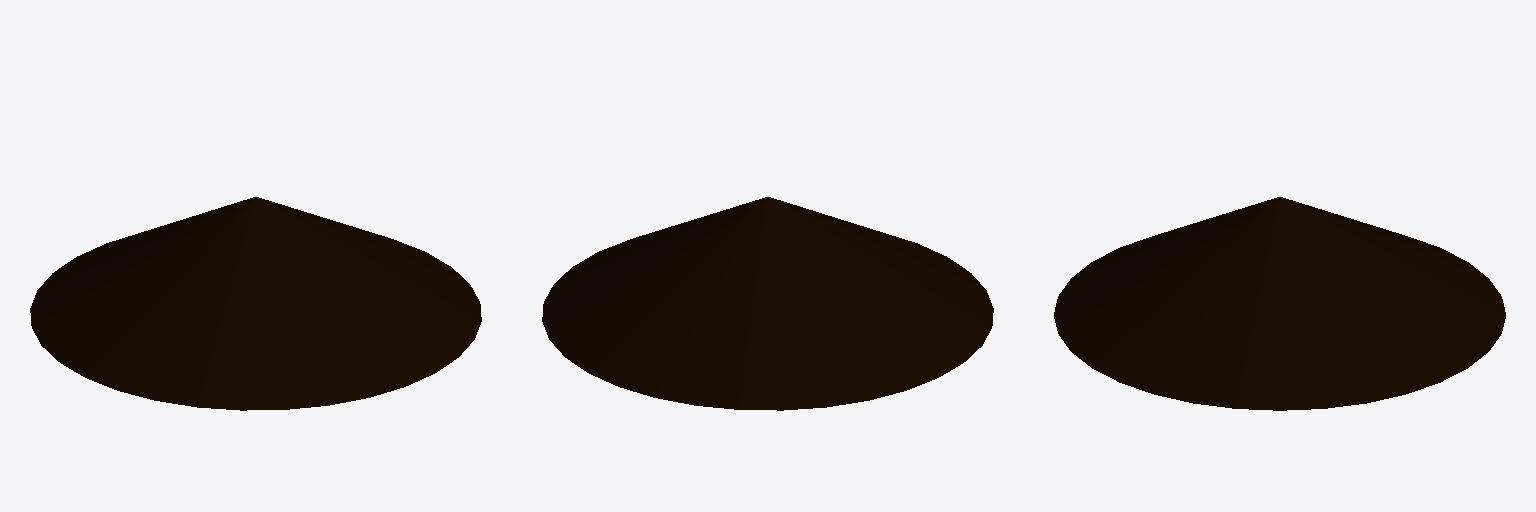
Rendered from kasa.obj.
3 views of the same model, side by side, from view 1: azimuth 30°, elevation 25°; view 2: azimuth 150°, elevation 25°; view 3: azimuth 270°, elevation 25° (orthographic).
Parts seen in each view (by area): view 1: Cone; view 2: Cone; view 3: Cone.
Part boxes in pixels (x1,y1,x2,y2): Cone: (30, 197, 481, 410); Cone: (542, 197, 993, 410); Cone: (1054, 197, 1505, 410).
Bounding box in the file's own units: 3.07 × 0.8897 × 3.07.